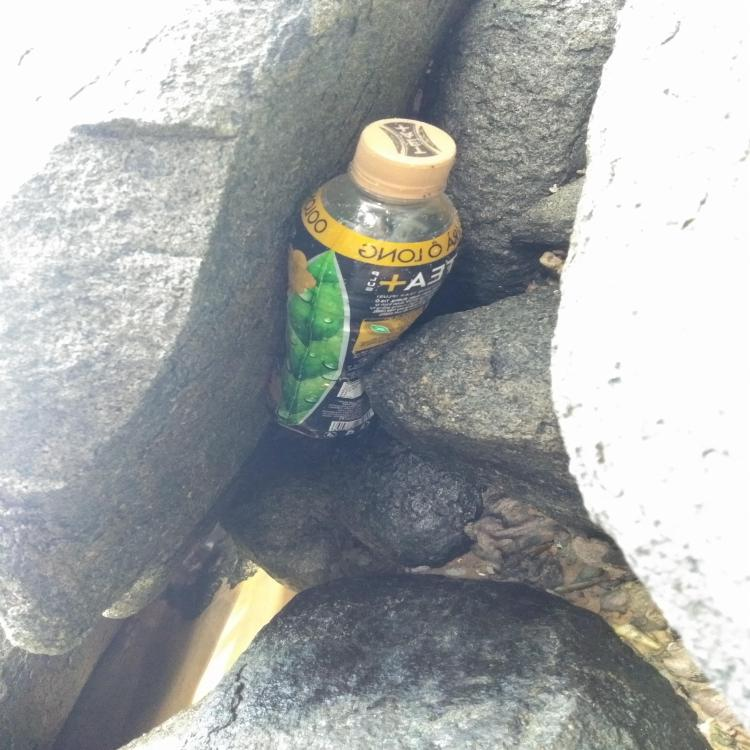Clear plastic bottle: (264, 118, 461, 438)
Plastic bottle cap: (352, 118, 457, 190)
